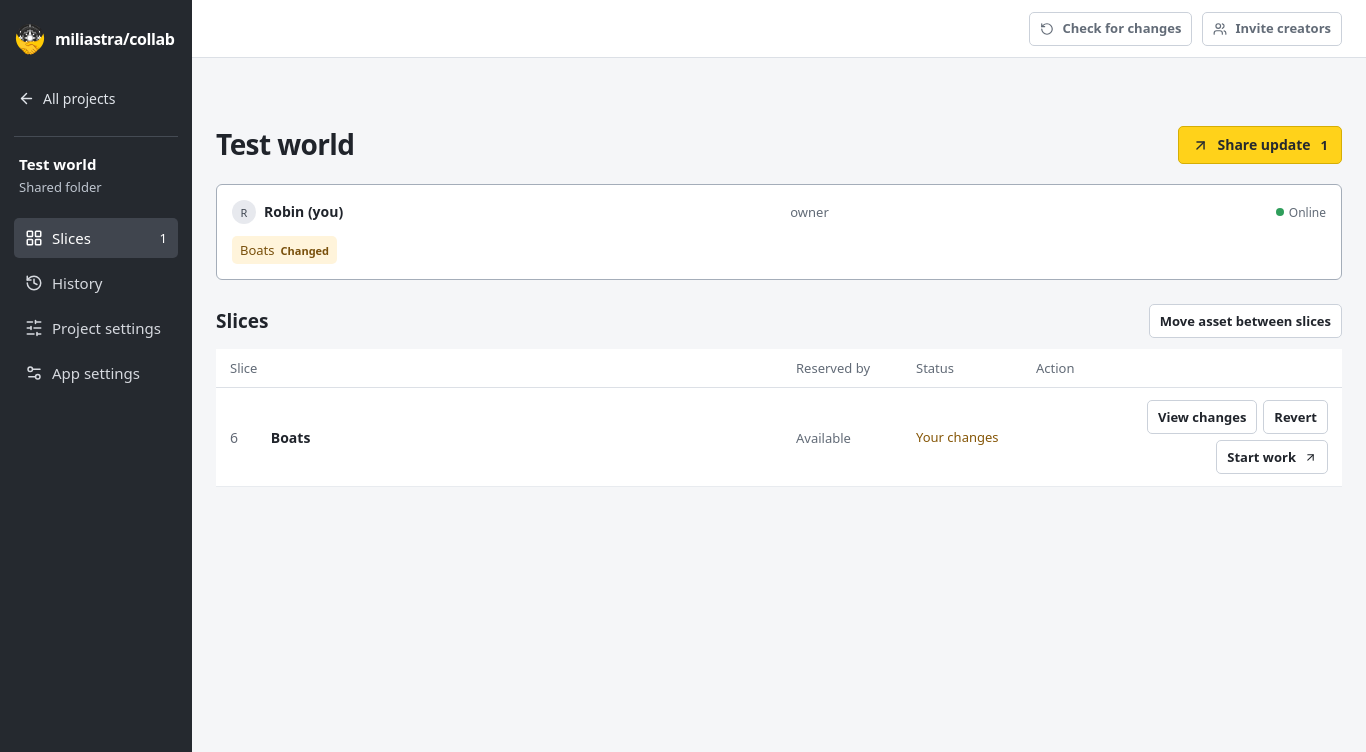
Test: shows plain screen titles, useful status and actions without promotional copy
The width and height of the screenshot is (1366, 752).
Expected: the heading "Test world" is shown, [216,128,354,162]
Expected: the button "All projects" is shown, [14,78,178,118]
Click the button "History" at point(96, 283), box [14,263,178,303]
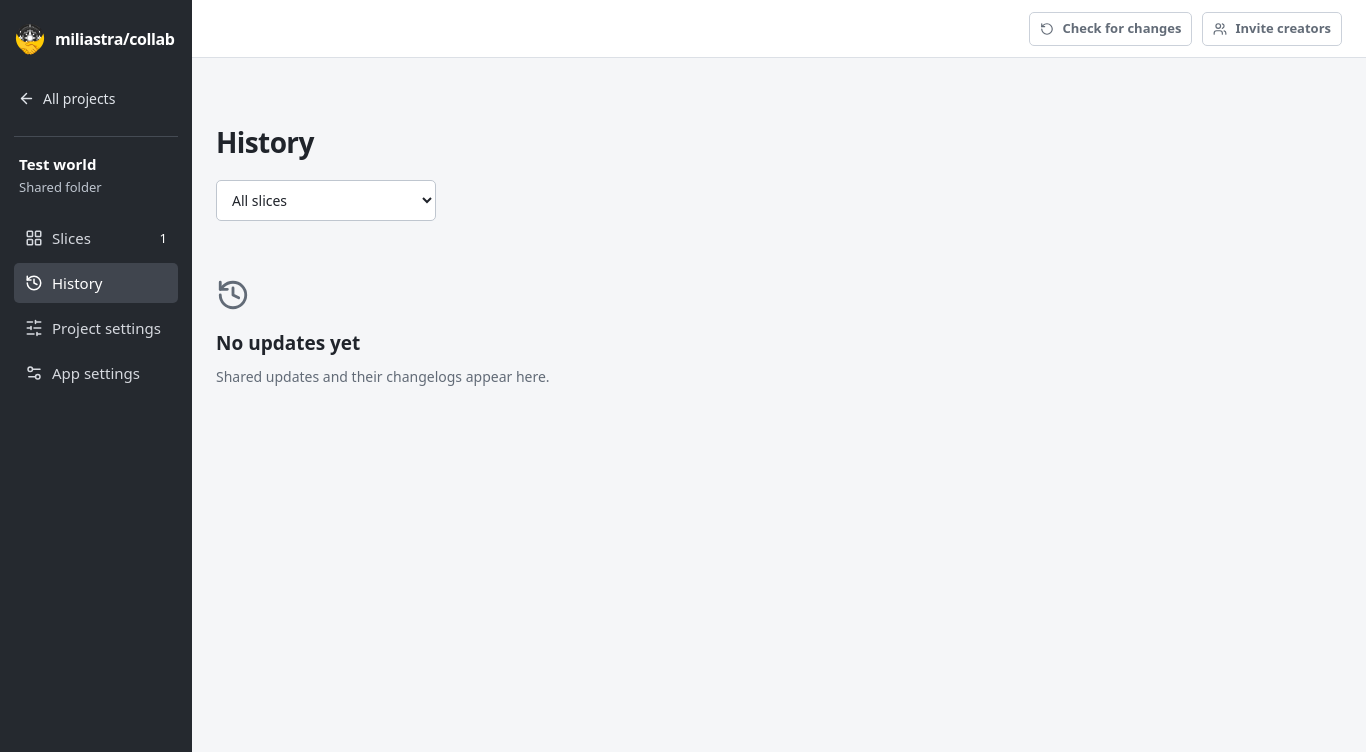
Expected: the heading "History" is shown, [216,126,314,160]
Expected: the dropdown named "Slice" is shown, [216,180,436,221]
Click the button "App settings" at point(96, 373), box [14,353,178,393]
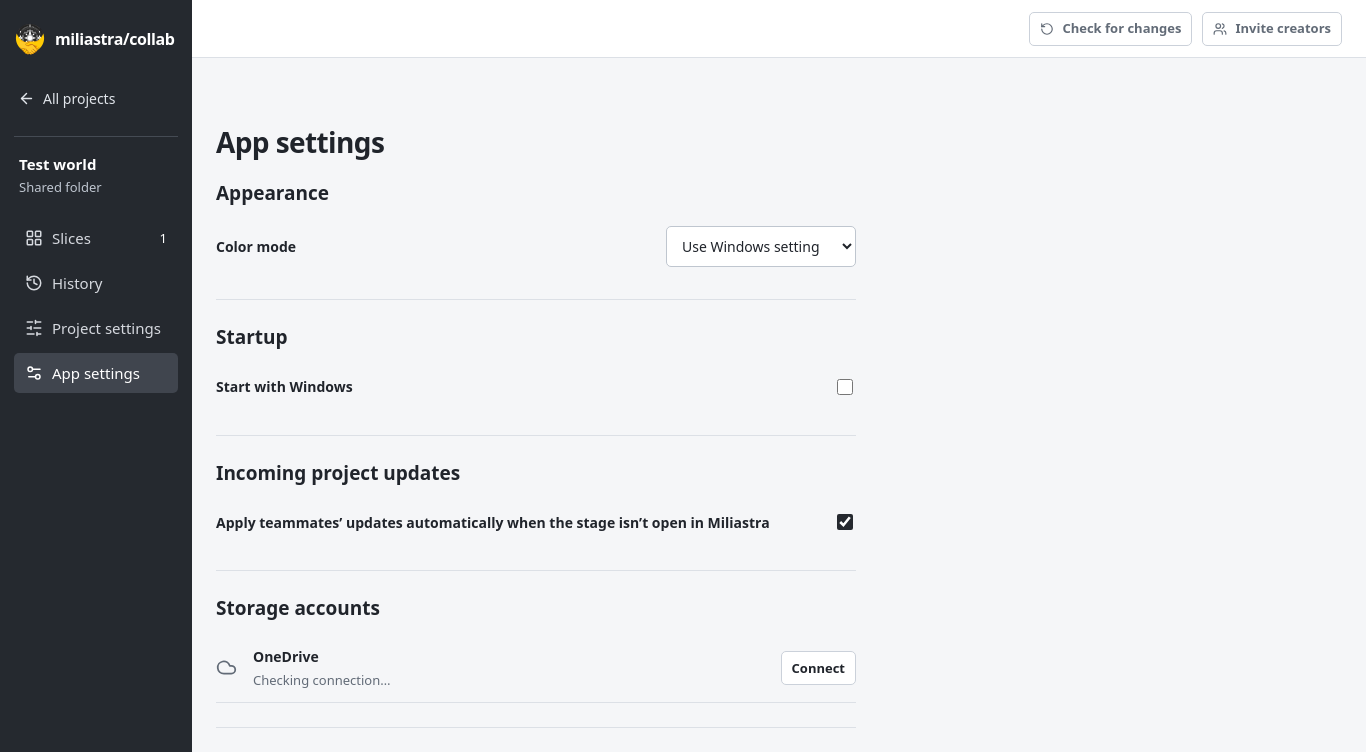
Expected: the heading "App settings" is shown, [216,123,384,161]
